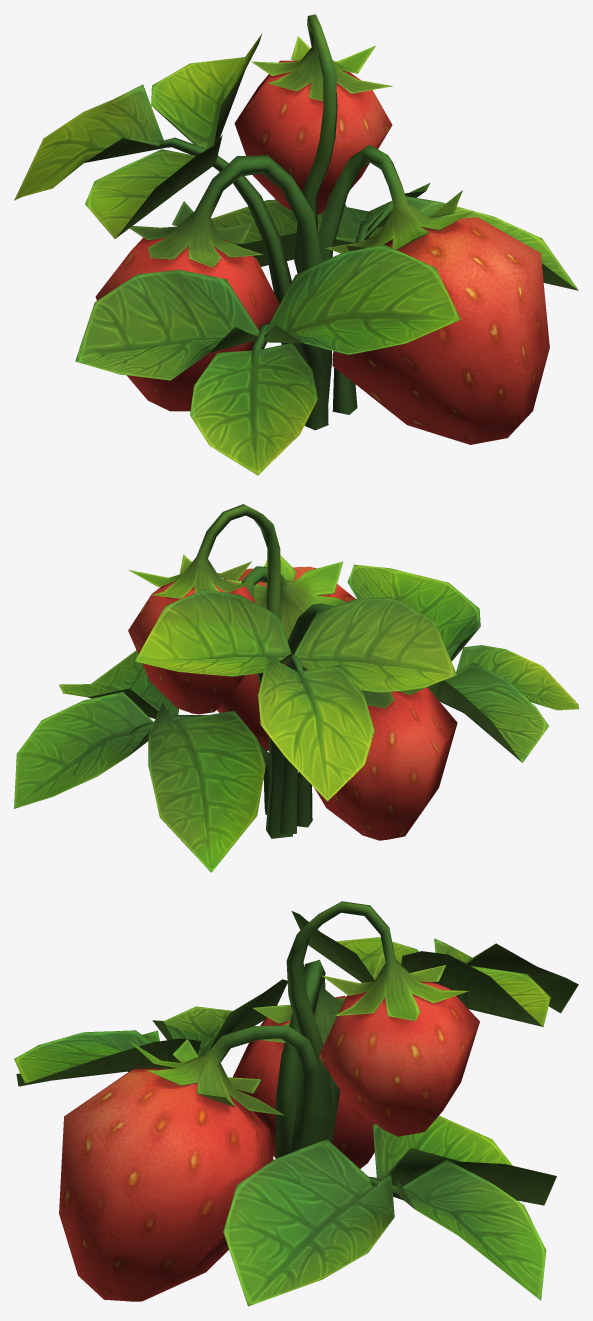
The model's file is strawberry_4.FBX.
3 renders of one model, top to bottom at view 1: azimuth 30°, elevation 25°; view 2: azimuth 150°, elevation 25°; view 3: azimuth 270°, elevation 25°, orthographic. The views are drawn at different scales.
Visible parts, largest first — view 1: strawberry_4; view 2: strawberry_4; view 3: strawberry_4.
Boxes of the visible parts, x1,y1,x2,y2 form: strawberry_4: (14,14,578,475); strawberry_4: (14,504,578,872); strawberry_4: (14,901,578,1306).
Size of the model in its own units: 100 by 72.43 by 96.32.
1 material, 1 textured.
